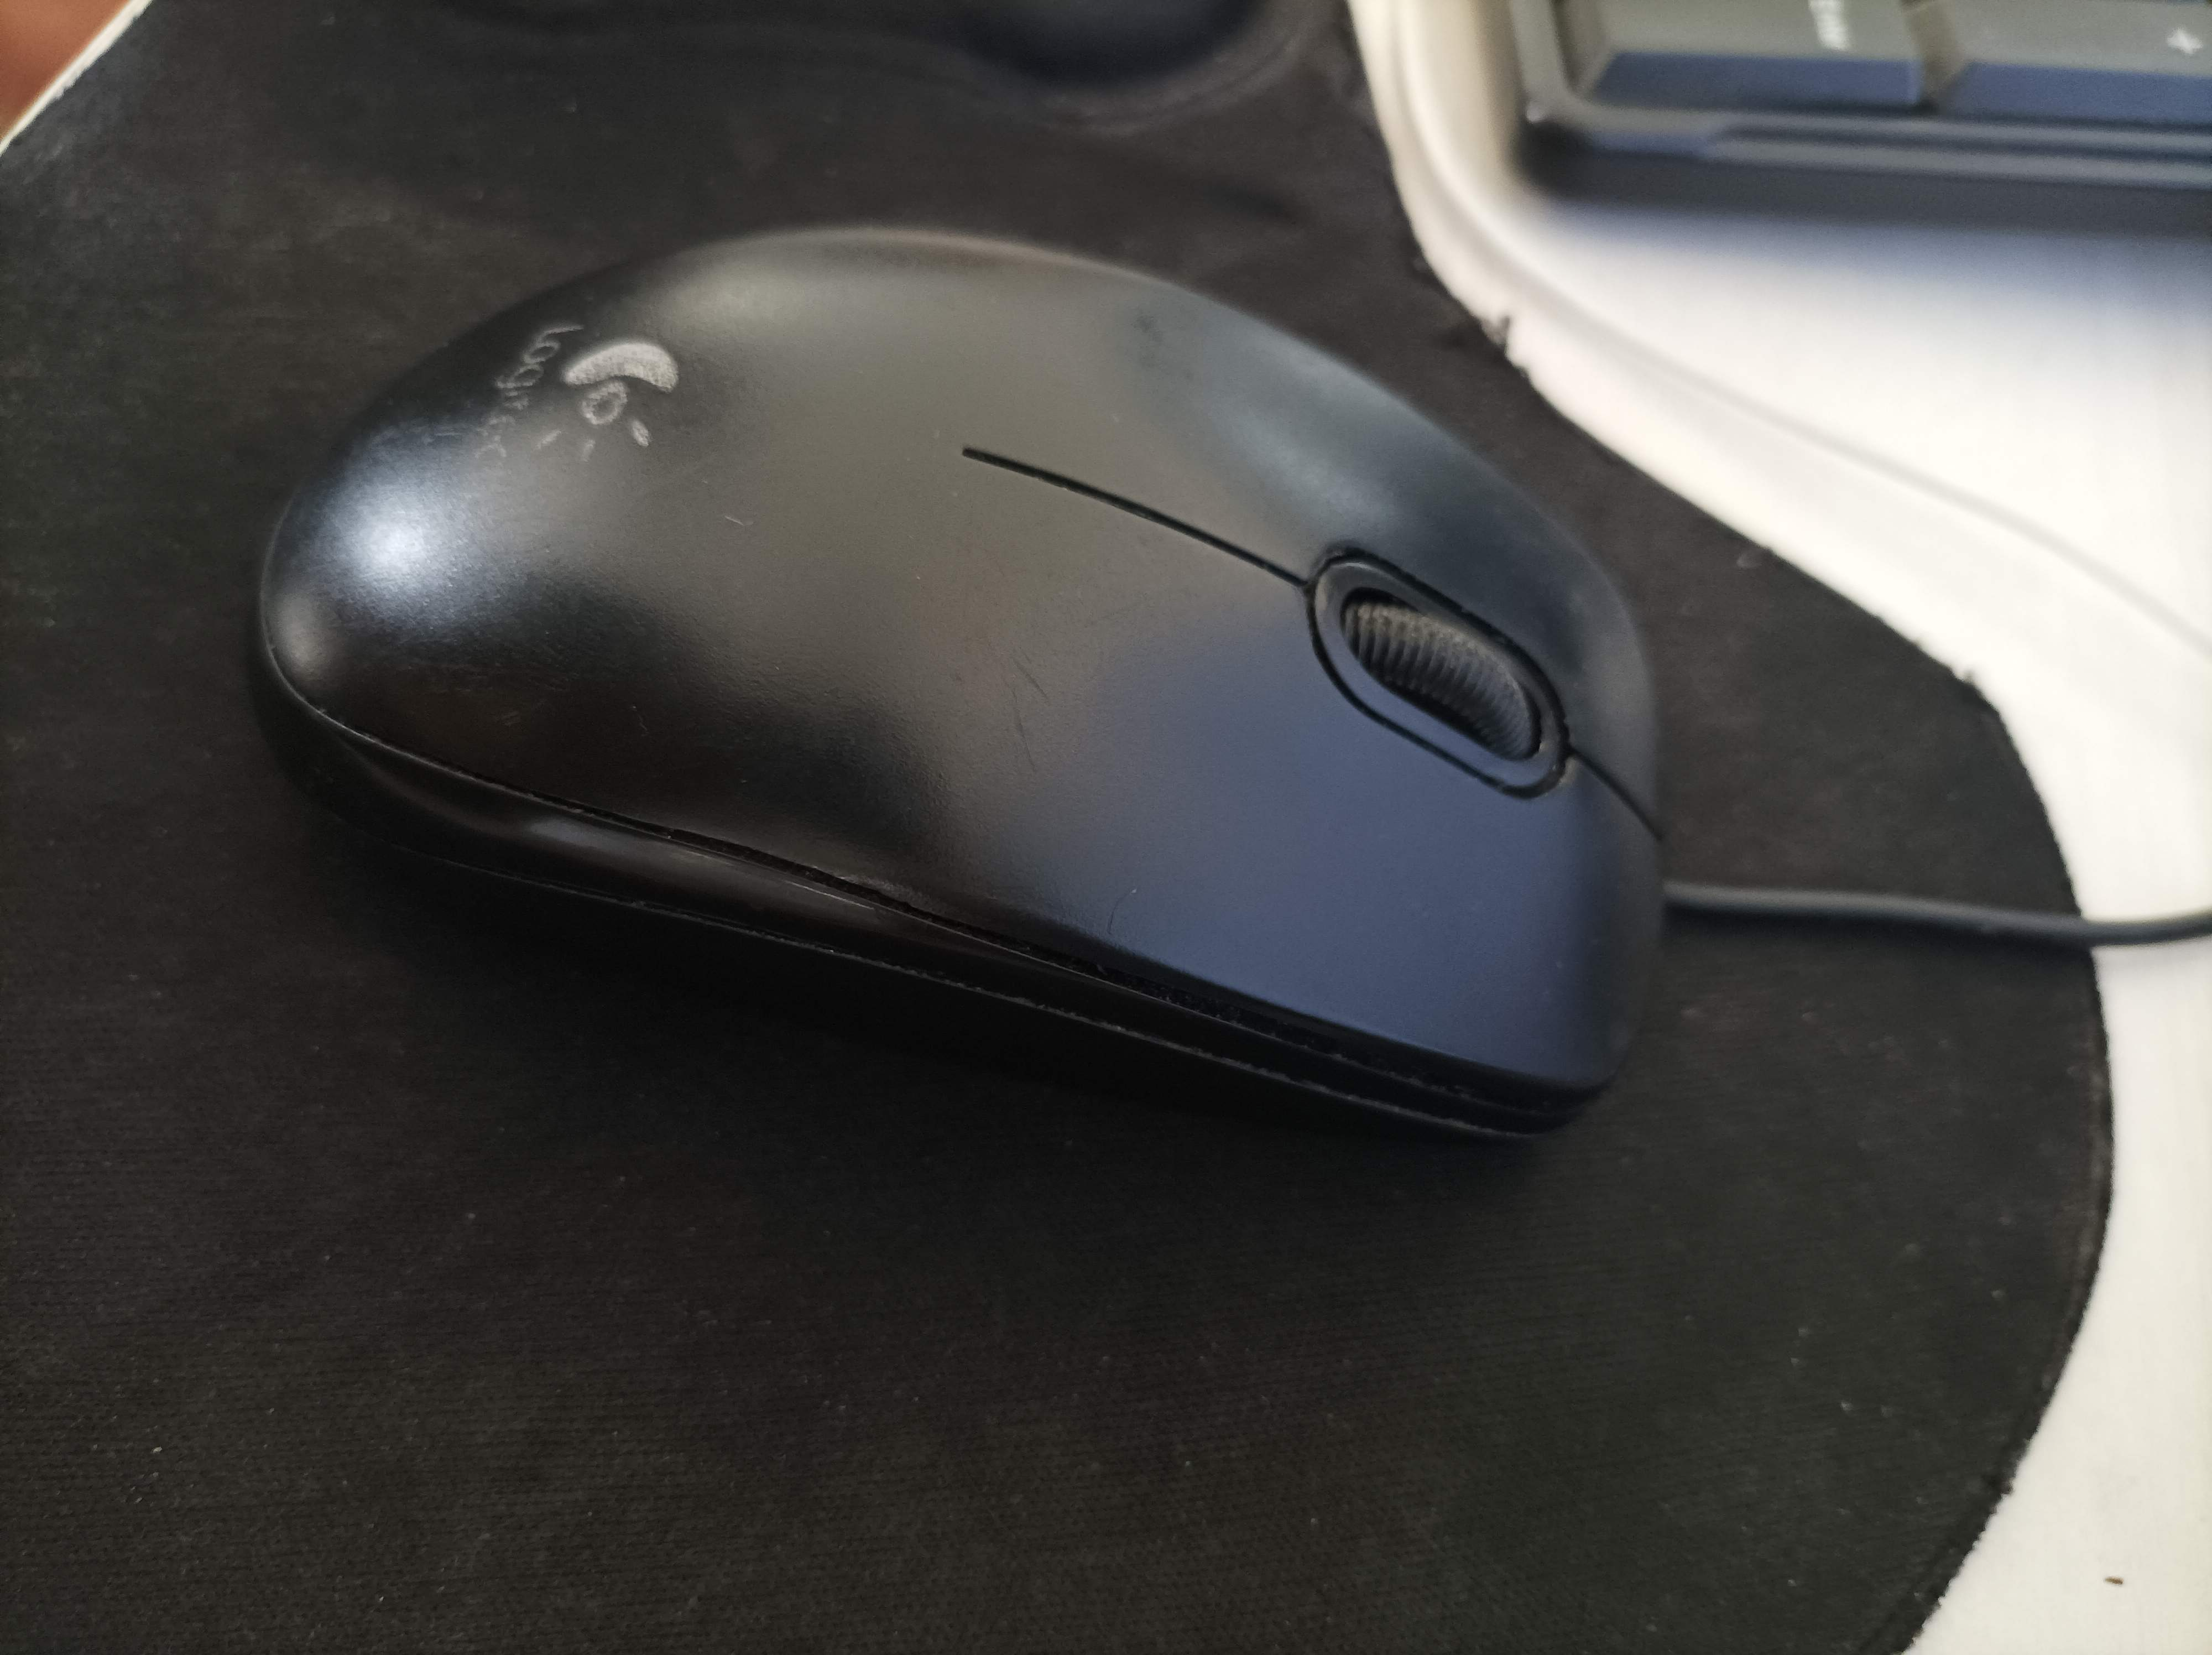mouse: (235, 189, 1691, 1144)
